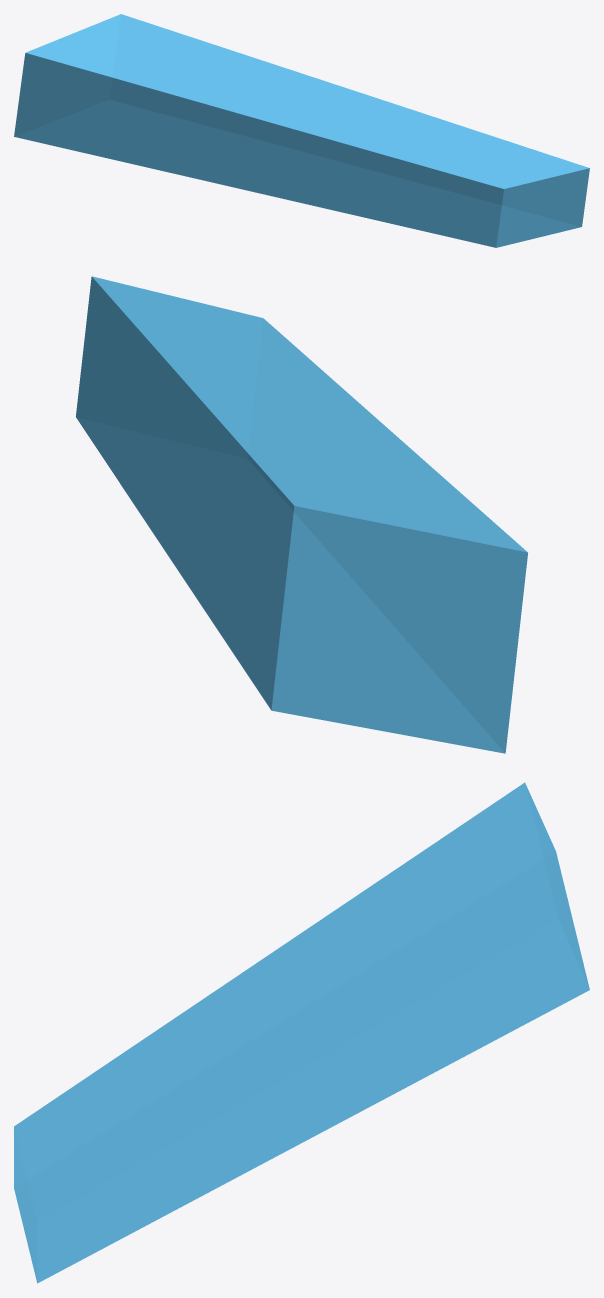
File: Event_421115418_HBrechit_14.fbx
3 views of the same model, one above another, from view 1: azimuth 30°, elevation 25°; view 2: azimuth 150°, elevation 25°; view 3: azimuth 270°, elevation 25° (orthographic). The views are drawn at different scales.
Visible parts, largest first — view 1: Model; view 2: Model; view 3: Model.
Part boxes in pixels (x1,y1,x2,y2): Model: [14, 14, 589, 247]; Model: [76, 276, 527, 753]; Model: [14, 782, 589, 1283].
Size of the model in its own units: 2.49 by 0.9337 by 2.15.
